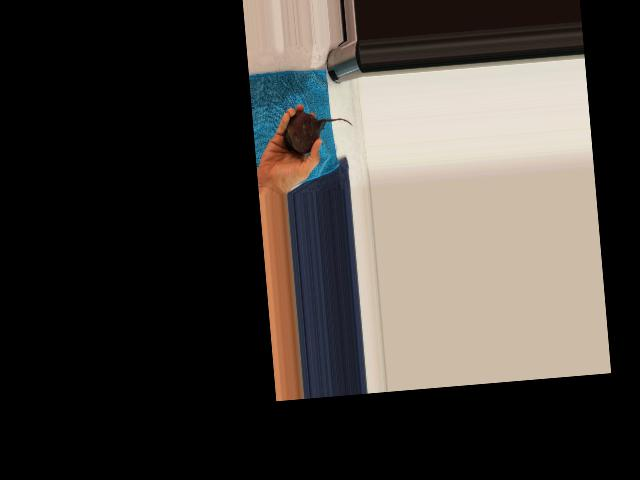beet: (280, 107, 354, 155)
